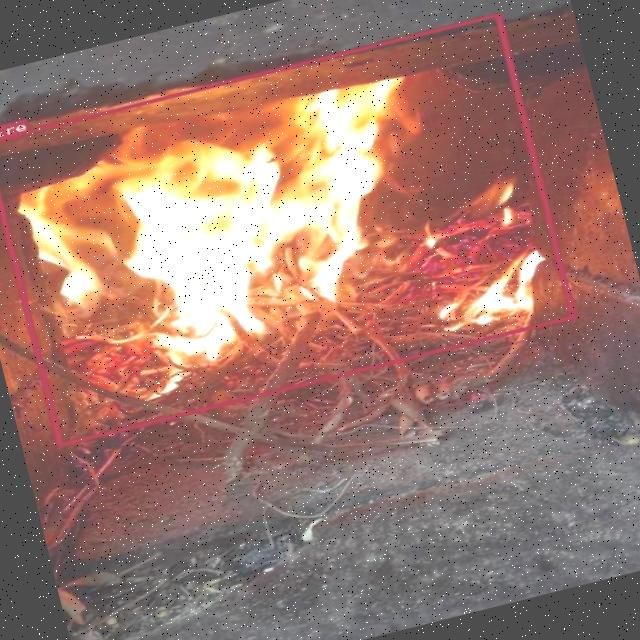fire: (0, 11, 574, 446)
